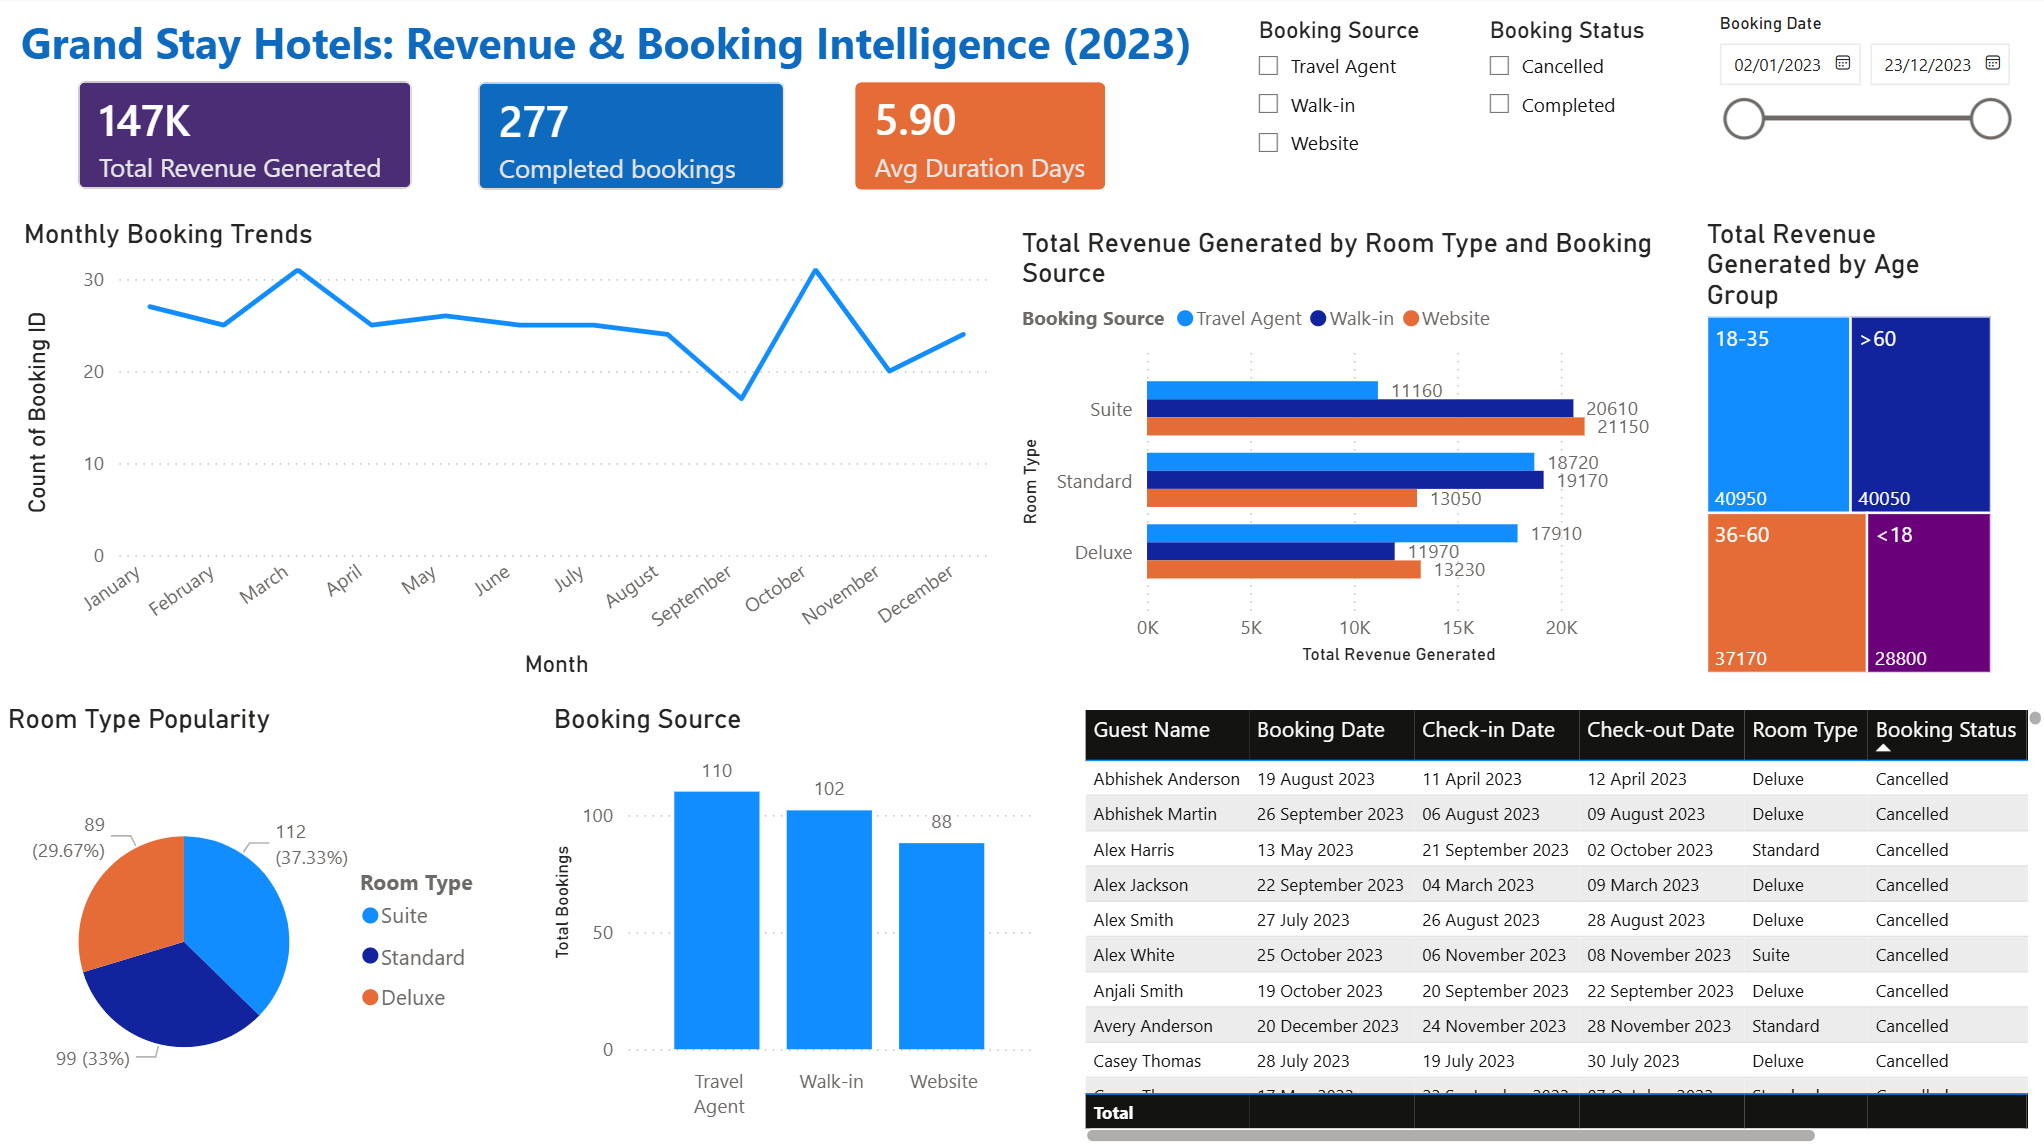

This screenshot's page, from the dashboard's own definition file:
{"tool":"powerbi","page":{"name":"Page 1","canvas":[1280,720],"ordinal":0},"visuals":[{"type":"cardVisual","fields":{"Data":["Bookings.Completed bookings"]},"box":[282.6,36.2,225.9,101.7],"z":0},{"type":"cardVisual","fields":{"Data":["Bookings.Total Revenue Generated"]},"box":[33.1,35.6,242.1,101.7],"z":1000},{"type":"cardVisual","fields":{"Data":["Bookings.Avg Duration Days"]},"box":[517.9,36.2,190.3,101.7],"z":2000},{"type":"lineChart","title":"Monthly Booking Trends","fields":{"Category":["Bookings.Booking Date.Variation.Date Hierarchy.Month"],"Y":["CountNonNull(Bookings.Booking ID)"]},"box":[11.2,137.3,614.6,292],"z":3000},{"type":"pieChart","title":"Room Type Popularity","fields":{"Category":["Bookings.Room Type"],"Y":["CountNonNull(Bookings.Booking ID)"]},"box":[1.2,439.9,317.6,280.1],"z":4000},{"type":"columnChart","title":"Booking Source","fields":{"Y":["CountNonNull(Bookings.Booking ID)"],"Category":["Bookings.Booking Source"]},"box":[341.9,439.9,309.5,267.7],"z":5000},{"type":"clusteredBarChart","fields":{"Category":["Bookings.Room Type"],"Y":["Bookings.Total Revenue Generated"],"Series":["Bookings.Booking Source"]},"box":[634,143.1,412.4,277.6],"z":6000},{"type":"treemap","fields":{"Group":["Guests.Age Group"],"Values":["Bookings.Total Revenue Generated"]},"box":[1061.3,137.5,187.2,289.5],"z":7000},{"type":"tableEx","fields":{"Values":["Guests.Guest Name","Bookings.Booking Date","Bookings.Check-in Date","Bookings.Check-out Date","Bookings.Room Type","Bookings.Booking Status","Sum(Bookings.Revenue Generated)"]},"box":[672.6,439.9,607.7,280.1],"z":8000},{"type":"slicer","fields":{"Values":["Bookings.Booking Date"]},"box":[1061.3,5,203.4,96.7],"z":9000},{"type":"slicer","fields":{"Values":["Bookings.Booking Source"]},"box":[773.7,7.5,144.1,106.7],"z":10000},{"type":"slicer","fields":{"Values":["Bookings.Booking Status"]},"box":[917.8,7.5,143.5,79.9],"z":11000},{"type":"textbox","box":[9.4,5,772.4,48.7],"z":12000}]}

Visuals, with their boxes in screenshot pixels (x1, y1, x2, y2), scaled from the page's 1280x720 canvas onto the 2044x1145 screenshot:
cardVisual - Bookings.Completed bookings: {"x1": 451, "y1": 58, "x2": 812, "y2": 219}
cardVisual - Bookings.Total Revenue Generated: {"x1": 53, "y1": 57, "x2": 439, "y2": 218}
cardVisual - Bookings.Avg Duration Days: {"x1": 827, "y1": 58, "x2": 1131, "y2": 219}
"Monthly Booking Trends" lineChart: {"x1": 18, "y1": 218, "x2": 999, "y2": 683}
"Room Type Popularity" pieChart: {"x1": 2, "y1": 700, "x2": 509, "y2": 1144}
"Booking Source" columnChart: {"x1": 546, "y1": 700, "x2": 1040, "y2": 1125}
clusteredBarChart - Bookings.Room Type x Bookings.Total Revenue Generated: {"x1": 1012, "y1": 228, "x2": 1671, "y2": 669}
treemap - Guests.Age Group x Bookings.Total Revenue Generated: {"x1": 1695, "y1": 219, "x2": 1994, "y2": 679}
tableEx - Guests.Guest Name x Bookings.Booking Date: {"x1": 1074, "y1": 700, "x2": 2043, "y2": 1144}
slicer - Bookings.Booking Date: {"x1": 1695, "y1": 8, "x2": 2020, "y2": 162}
slicer - Bookings.Booking Source: {"x1": 1236, "y1": 12, "x2": 1466, "y2": 182}
slicer - Bookings.Booking Status: {"x1": 1466, "y1": 12, "x2": 1695, "y2": 139}
textbox: {"x1": 15, "y1": 8, "x2": 1248, "y2": 85}
